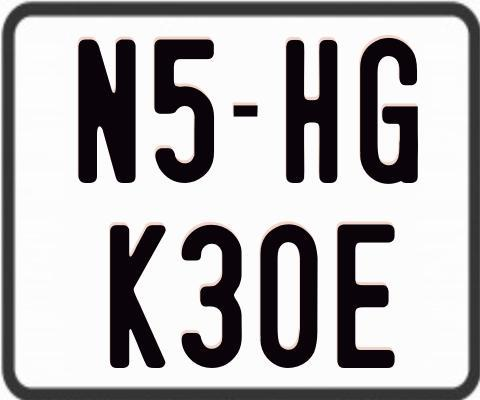0: (257, 223, 321, 371)
3: (179, 223, 239, 368)
5: (151, 38, 211, 185)
E: (336, 223, 394, 373)
G: (360, 36, 420, 183)
H: (284, 38, 338, 187)
K: (108, 225, 165, 373)
N: (76, 39, 135, 186)
